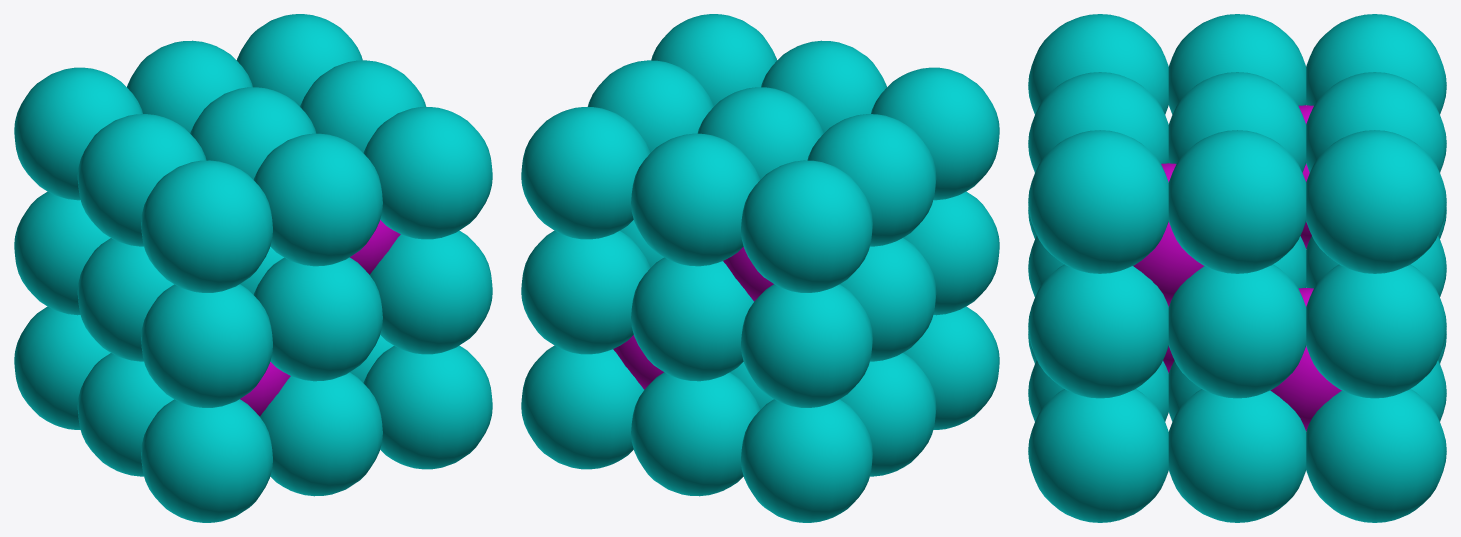
The model's file is antifluoritagordo_centrado.glb.
3 views of the same model, side by side, from view 1: azimuth 30°, elevation 25°; view 2: azimuth 150°, elevation 25°; view 3: azimuth 270°, elevation 25° (orthographic). The views are drawn at different scales.
Parts seen in each view (by area): view 1: atomo28; view 2: atomo28; view 3: atomo28.
Boxes of the visible parts, x1,y1,x2,y2 form: atomo28: (14, 14, 492, 522); atomo28: (521, 14, 999, 522); atomo28: (1028, 14, 1446, 522).
Bounding box in the file's own units: 3.05 × 3.05 × 3.05.
